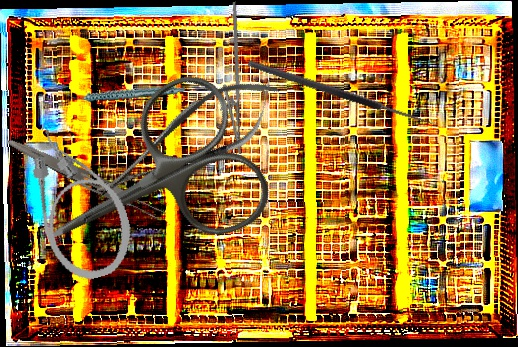Cannula: (18, 115, 142, 288)
Dressing Forceps: (3, 135, 169, 225)
Handpiece: (65, 69, 186, 117)
Hook Surgical: (246, 50, 440, 129)
Iris Scissors: (11, 62, 282, 310)
Micro Scissor: (81, 61, 294, 219)
Needle Holder: (203, 1, 260, 156)
